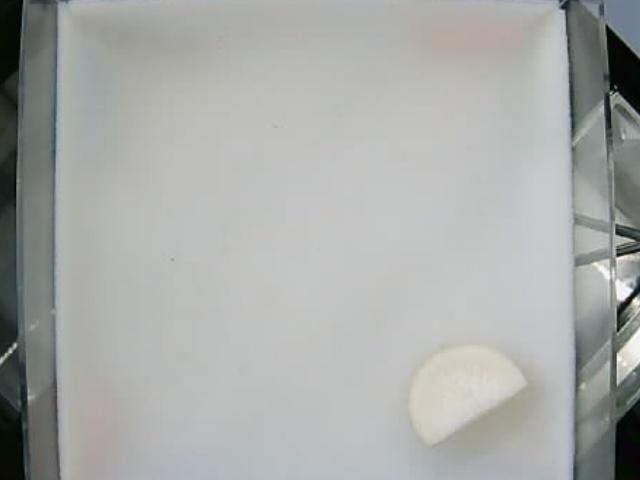Mooli: (408, 343, 530, 442)
